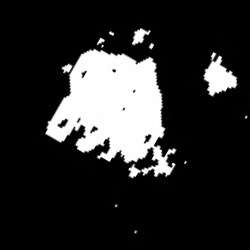pinhole: (109, 32, 114, 37), (114, 203, 117, 208), (134, 230, 137, 233)
spot: (46, 39, 177, 181), (205, 53, 235, 96), (132, 27, 150, 44)
